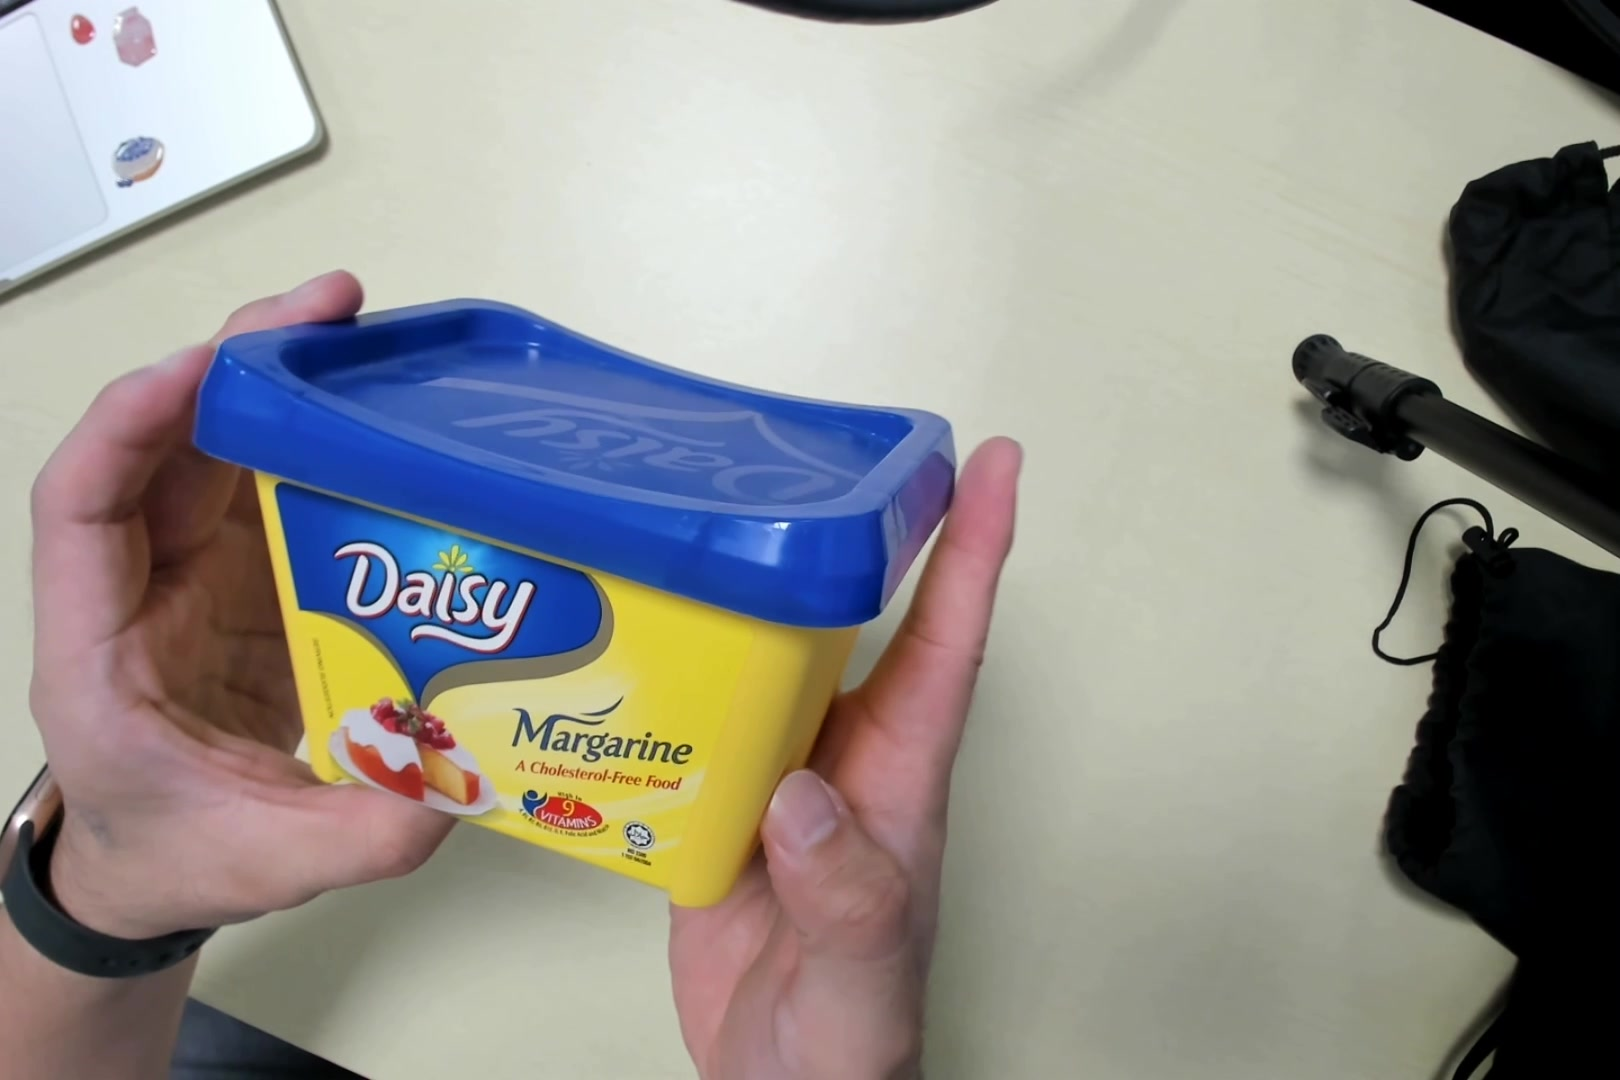OtherSpreads_400-499g_Halal_NonHealthy: (192, 306, 958, 916)
